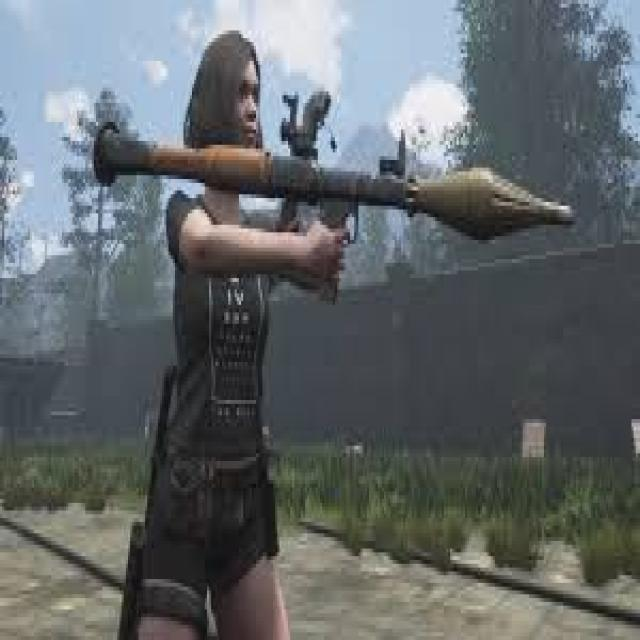bazooka: (76, 86, 580, 248)
